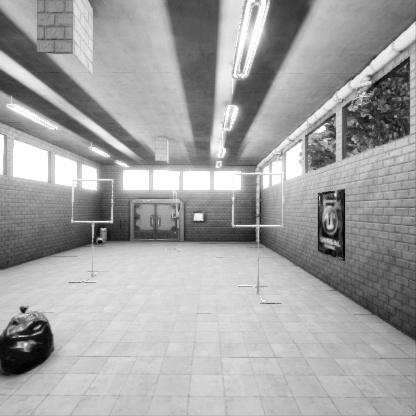gate: (234, 190, 288, 245), (75, 195, 118, 237), (172, 199, 177, 226)
